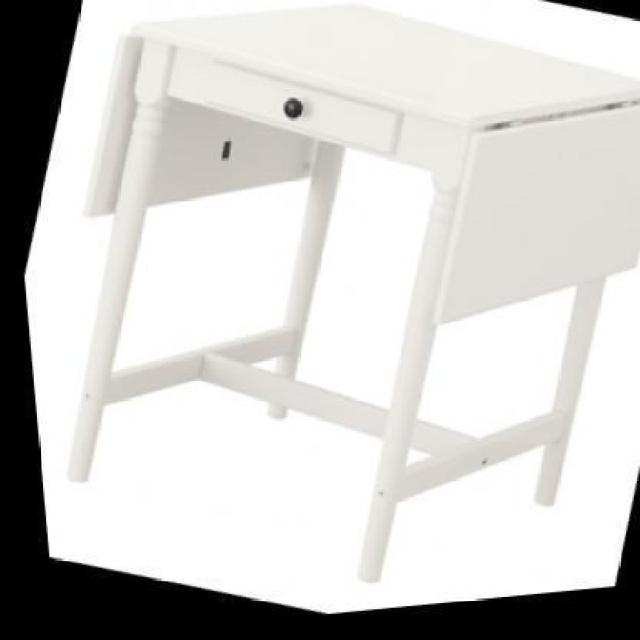tables: (63, 0, 639, 583)
